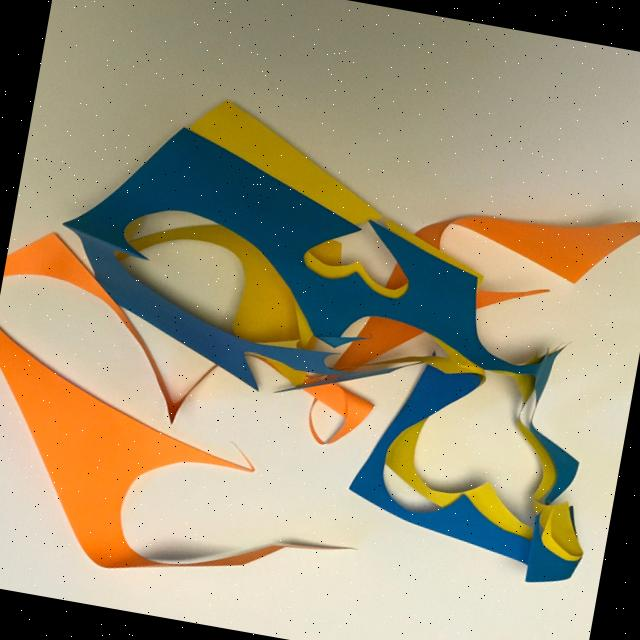paper: (0, 66, 640, 640)
